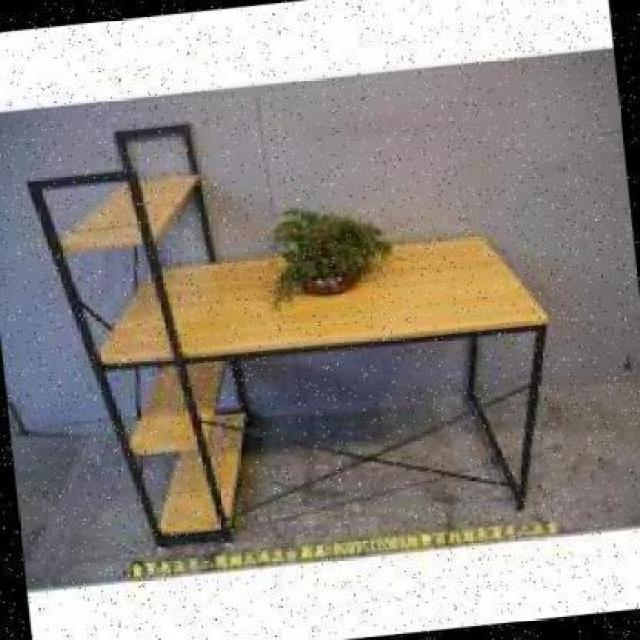tables: (96, 231, 550, 543)
